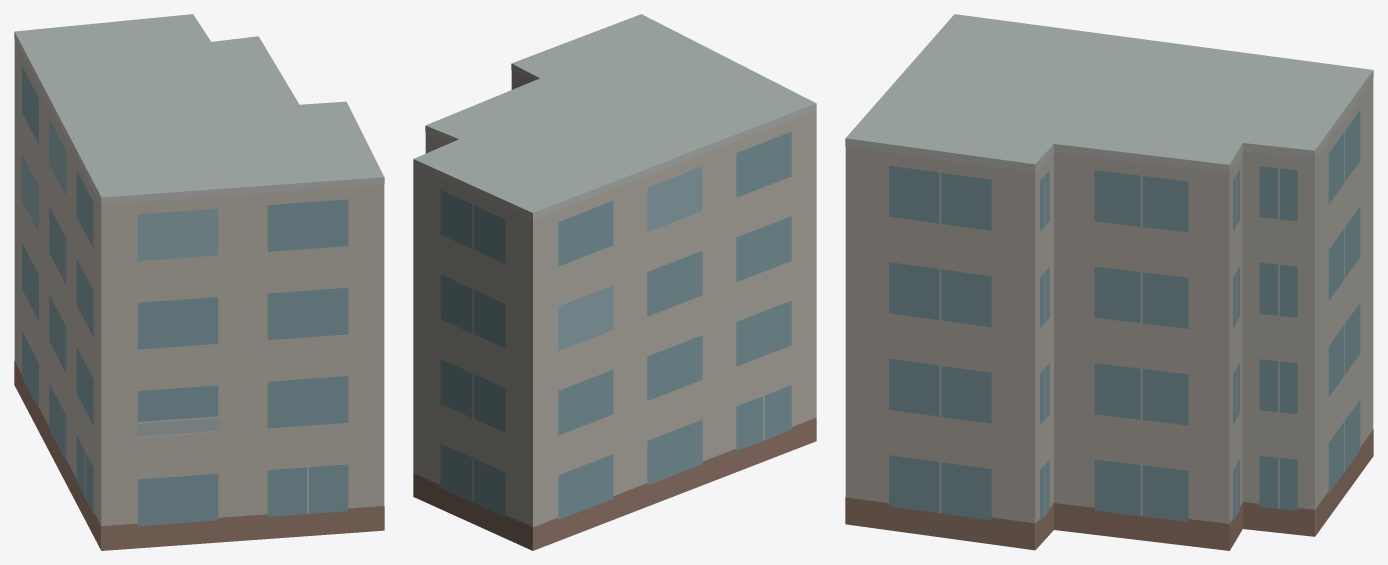
File: survey-upis-33031541.glb
The picture shows the model from 3 angles, left to right: view 1: azimuth 30°, elevation 25°; view 2: azimuth 150°, elevation 25°; view 3: azimuth 270°, elevation 25°; orthographic projection. The views are drawn at different scales.
Parts seen in each view (by area): view 1: survey-upis-33031541.tmp; view 2: survey-upis-33031541.tmp; view 3: survey-upis-33031541.tmp.
Boxes of the visible parts, x1=… form: survey-upis-33031541.tmp: x1=14, y1=14, x2=384, y2=550; survey-upis-33031541.tmp: x1=413, y1=14, x2=816, y2=550; survey-upis-33031541.tmp: x1=845, y1=14, x2=1373, y2=550.
Bounding box in the file's own units: 9.9 × 11.8 × 14.64.
